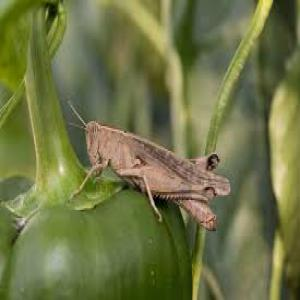locust: (72, 104, 226, 239)
